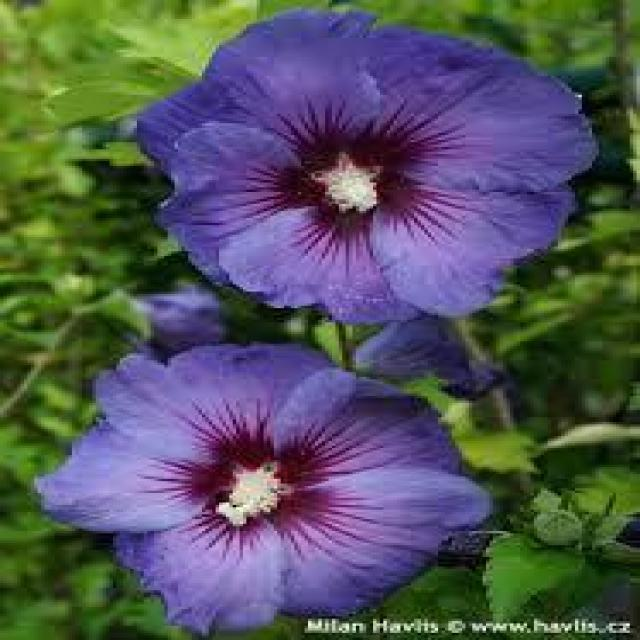organic waste: (135, 18, 597, 324), (48, 342, 476, 630)
